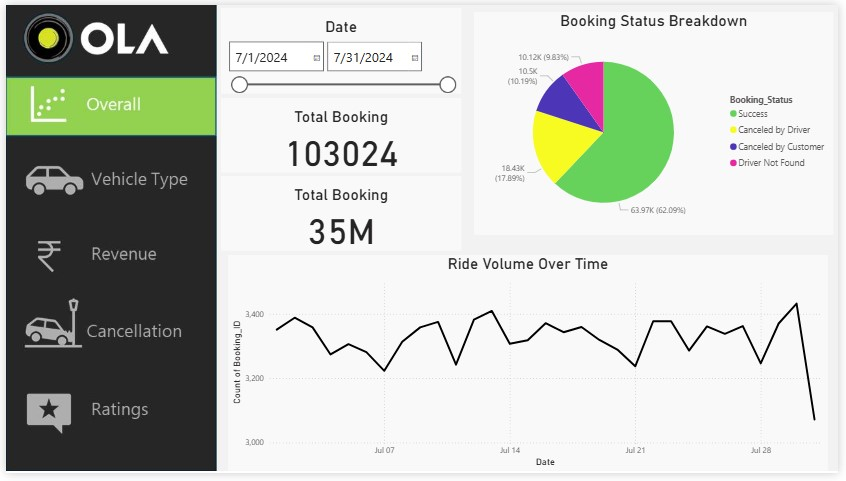

The page's visual inventory and layout, read from the dashboard file:
{"tool":"powerbi","page":{"name":"Overall","canvas":[1280,720],"ordinal":0},"visuals":[{"type":"actionButton","box":[0,438.3,323.3,108.3],"z":0},{"type":"actionButton","box":[0,213.3,323.3,108.3],"z":1000},{"type":"actionButton","box":[0,330,323.3,108.3],"z":2000},{"type":"actionButton","box":[0,573.3,323.3,108.3],"z":3000},{"type":"lineChart","title":"Ride Volume Over Time","fields":{"Category":["July.Date"],"Y":["CountNonNull(July.Booking_ID)"]},"box":[341.7,385,923.3,331.7],"z":4000},{"type":"pieChart","title":" Booking Status Breakdown","fields":{"Category":["July.Booking_Status"],"Y":["CountNonNull(July.Booking_Status)"]},"box":[720,10,553.3,343.3],"z":5000},{"type":"slicer","title":"Date","fields":{"Values":["July.Date"]},"box":[330,5,370,131.7],"z":6000},{"type":"card","title":"Total Booking ","fields":{"Values":["CountNonNull(July.Booking_ID)"]},"box":[330,143.3,370,115],"z":7000},{"type":"card","title":"Total Booking ","fields":{"Values":["Sum(July.Booking_Value)"]},"box":[330,263.3,370,115],"z":8000}]}

Visuals, with their boxes in screenshot pixels (x1, y1, x2, y2), scaled from the page's 1280x720 canvas onto the 846x481 screenshot:
actionButton: detection(0, 293, 214, 365)
actionButton: detection(0, 142, 214, 215)
actionButton: detection(0, 220, 214, 293)
actionButton: detection(0, 383, 214, 455)
"Ride Volume Over Time" lineChart: detection(226, 257, 836, 479)
" Booking Status Breakdown" pieChart: detection(476, 7, 842, 236)
"Date" slicer: detection(218, 3, 463, 91)
"Total Booking " card: detection(218, 96, 463, 173)
"Total Booking " card: detection(218, 176, 463, 253)
